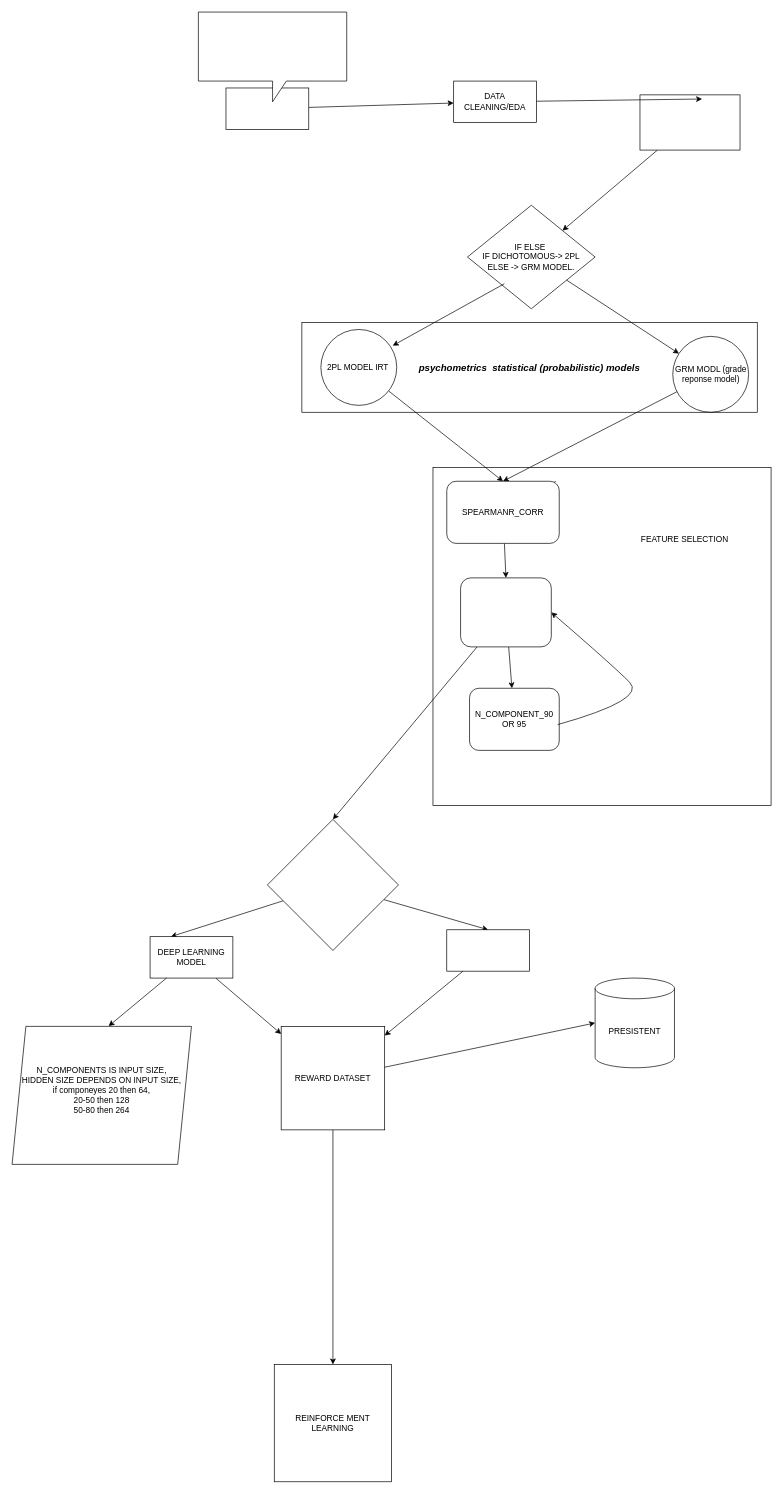
Some shapes in this 783 by 1494 pixel diagram are drawn without their labels. The shapes that lost their labels are listed below. From the top down, each one's box as (x1, y1, x2, y2) in pixels, then its label:
(198, 11, 347, 102): DATA SHOULD BE LIKERATA (1-5 SCALE)OR BINARY INPUTS (YES/NO)
(225, 87, 309, 129): COLLECT THE DATA
(639, 94, 740, 150): FIND THE TYPE , ( dichotomous or ploychotomous)
(460, 577, 551, 647): PCA
(267, 819, 398, 950): IF ESLSE IF DATAESET LEN <10000 ELSE DEEP LEARING
(446, 929, 530, 971): CLASSICAL MACHIN LEARNING
